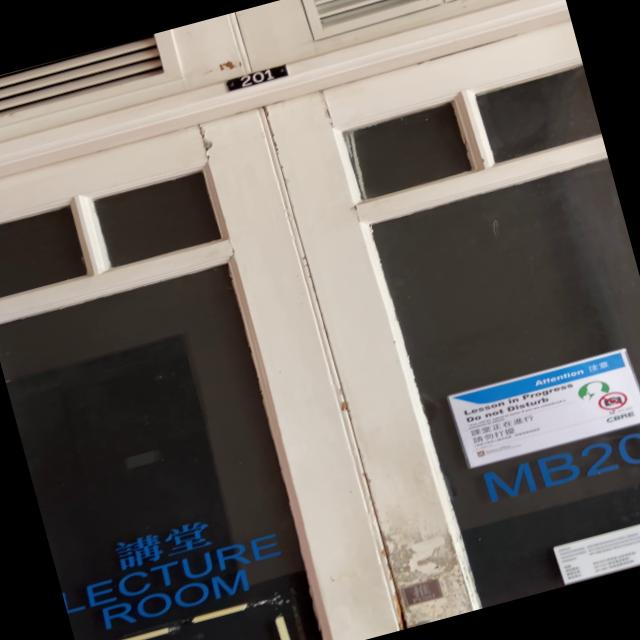room201: (216, 58, 297, 98)
room201Window: (472, 417, 640, 509)
